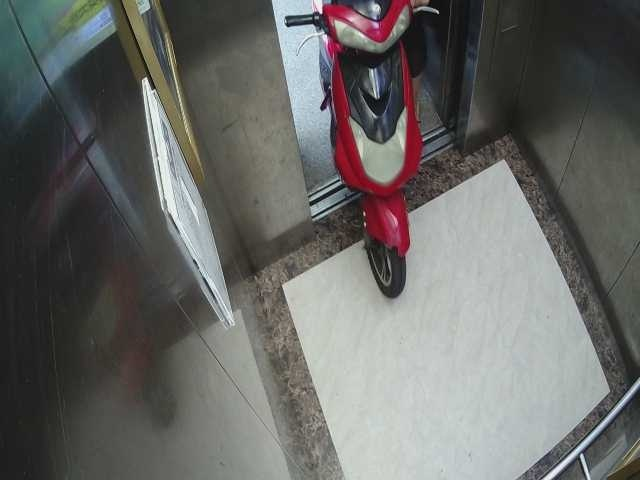emotor: (279, 3, 448, 307)
